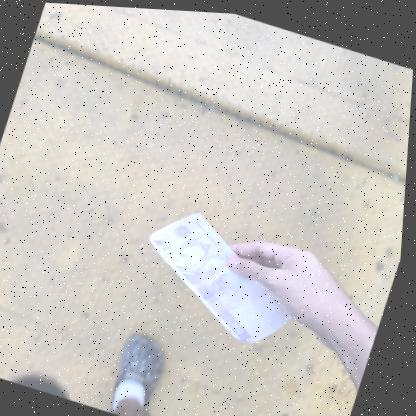vef_back: (126, 195, 318, 352)
